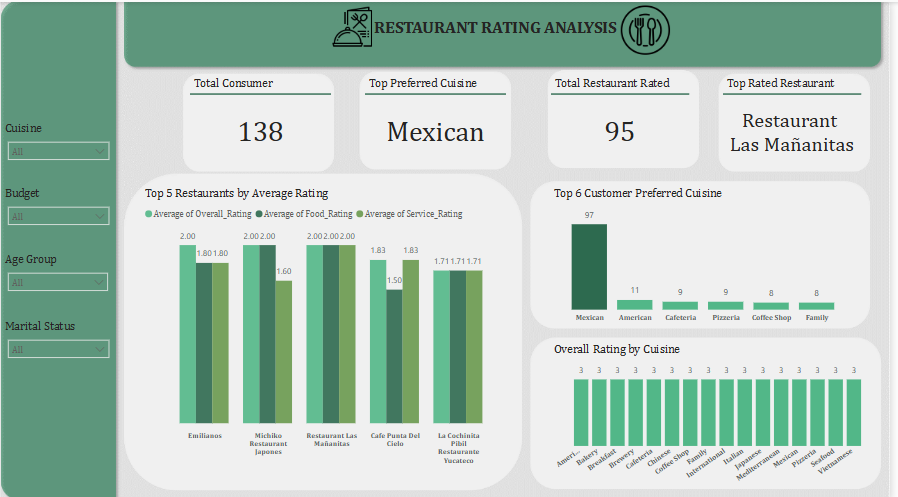

The page's visual inventory and layout, read from the dashboard file:
{"tool":"powerbi","page":{"name":"Page 3","canvas":[1280,720],"ordinal":0},"visuals":[{"type":"clusteredColumnChart","title":"Top 5 Restaurants by Average Rating","fields":{"Category":["restaurants.Name"],"Y":["Avg(ratings.Overall_Rating)","Avg(ratings.Food_Rating)","Avg(ratings.Service_Rating)"]},"box":[201.6,265,535.7,409],"z":0},{"type":"clusteredColumnChart","title":"Top 6 Customer Preferred Cuisine","fields":{"Category":["consumer_preferences.Preferred_Cuisine"],"Y":["CountNonNull(consumer_preferences.Consumer_ID)"]},"box":[790.6,265,442.1,204.5],"z":1000},{"type":"clusteredColumnChart","title":"Overall Rating by Cuisine","fields":{"Category":["restaurant_cuisines.Cuisine"],"Y":["Count(ratings.Overall_Rating)"]},"box":[790.6,489.6,463.7,211.7],"z":2000},{"type":"card","title":"Total Consumer","fields":{"Values":["Count(consumers.Consumer_ID)"]},"box":[272.2,106.6,203,128.2],"z":3000},{"type":"card","title":"Top Preferred Cuisine","fields":{"Values":["ratings.Top_Pref_Cuisine"]},"box":[524.2,106.6,203,128.2],"z":4000},{"type":"card","title":"Total Restaurant Rated","fields":{"Values":["Count(restaurant_cuisines.Restaurant_ID)"]},"box":[792,106.6,198.7,128.2],"z":5000},{"type":"card","title":"Top Rated Restaurant","fields":{"Values":["ratings.Top_Rated_Restaurant"]},"box":[1039.7,106.6,198.7,128.2],"z":6000},{"type":"slicer","title":"Cuisine","fields":{"Values":["Cuisine_Dim.Cuisine"]},"box":[0,171.4,165.6,73.4],"z":7000},{"type":"slicer","title":"Budget","fields":{"Values":["consumers.Budget"]},"box":[0,265,165.6,76.3],"z":8000},{"type":"slicer","title":"Age Group","fields":{"Values":["consumers.Age Group"]},"box":[0,360,164.2,76.3],"z":9000},{"type":"slicer","title":"Marital Status","fields":{"Values":["consumers.Marital_Status"]},"box":[0,456.5,165.6,85],"z":10000},{"type":"textbox","box":[459.4,0,531.4,92.2],"z":11000},{"type":"image","box":[865.4,0,125.3,80.6],"z":12000},{"type":"image","box":[459.4,0,92.2,70.6],"z":13000}]}

Visuals, with their boxes in screenshot pixels (x1, y1, x2, y2), scaled from the page's 1280x720 canvas onto the 898x497 screenshot:
"Top 5 Restaurants by Average Rating" clusteredColumnChart: [141, 183, 517, 465]
"Top 6 Customer Preferred Cuisine" clusteredColumnChart: [555, 183, 865, 324]
"Overall Rating by Cuisine" clusteredColumnChart: [555, 338, 880, 484]
"Total Consumer" card: [191, 74, 333, 162]
"Top Preferred Cuisine" card: [368, 74, 510, 162]
"Total Restaurant Rated" card: [556, 74, 695, 162]
"Top Rated Restaurant" card: [729, 74, 869, 162]
"Cuisine" slicer: [0, 118, 116, 169]
"Budget" slicer: [0, 183, 116, 236]
"Age Group" slicer: [0, 248, 115, 301]
"Marital Status" slicer: [0, 315, 116, 374]
textbox: [322, 0, 695, 64]
image: [607, 0, 695, 56]
image: [322, 0, 387, 49]
